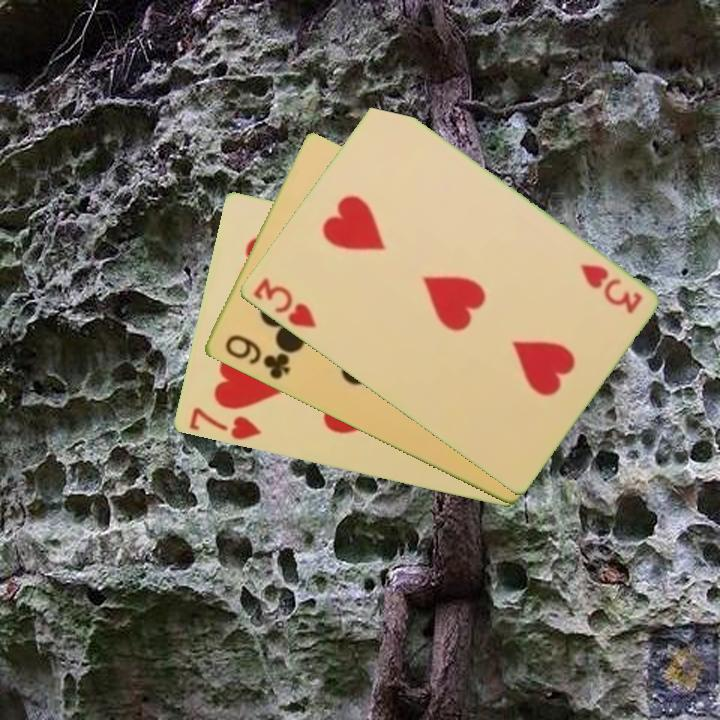3h: (249, 274, 319, 331), (575, 260, 645, 317)
7h: (185, 404, 264, 443)
9c: (221, 331, 293, 383)
